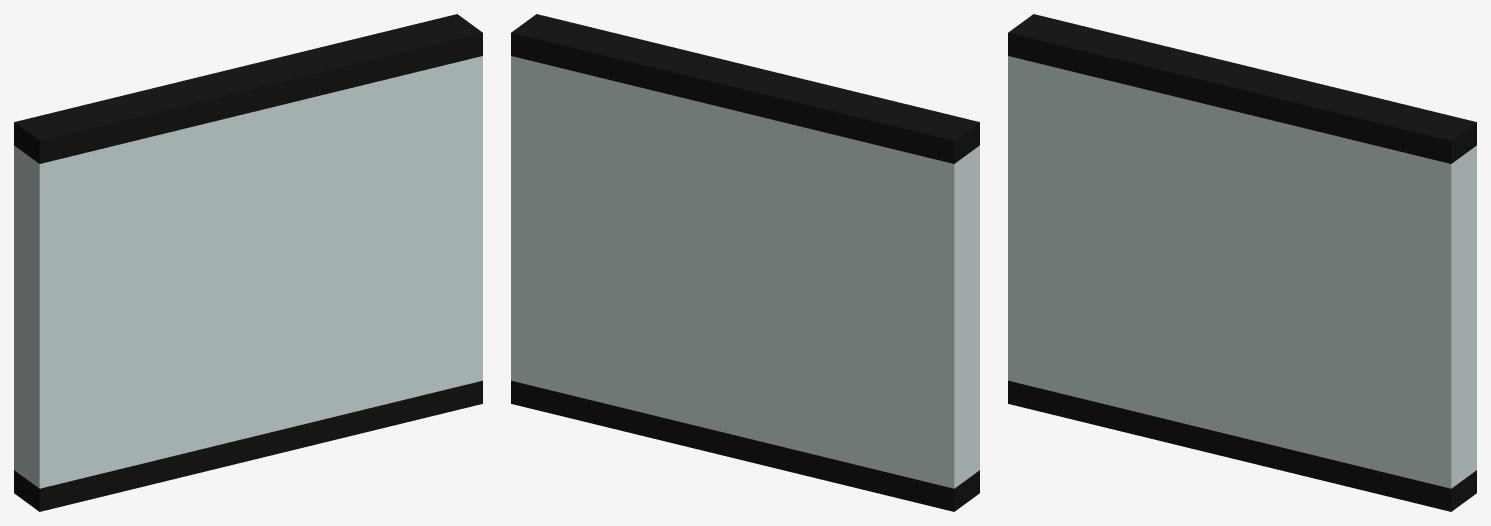
File: Medieval Assets-220-Chat Bubble - Chat Area.obj
3 views of the same model, side by side, from view 1: azimuth 30°, elevation 25°; view 2: azimuth 150°, elevation 25°; view 3: azimuth 330°, elevation 25° (orthographic).
Parts seen in each view (by area): view 1: Chat Bubble - Chat Area; view 2: Chat Bubble - Chat Area; view 3: Chat Bubble - Chat Area.
Part boxes in pixels (<box>): Chat Bubble - Chat Area: <box>14,14,482,511</box>; Chat Bubble - Chat Area: <box>511,14,979,511</box>; Chat Bubble - Chat Area: <box>1008,14,1476,511</box>.
Bounding box in the file's own units: 2 × 1.6 × 0.2.
1 material, 1 textured.
